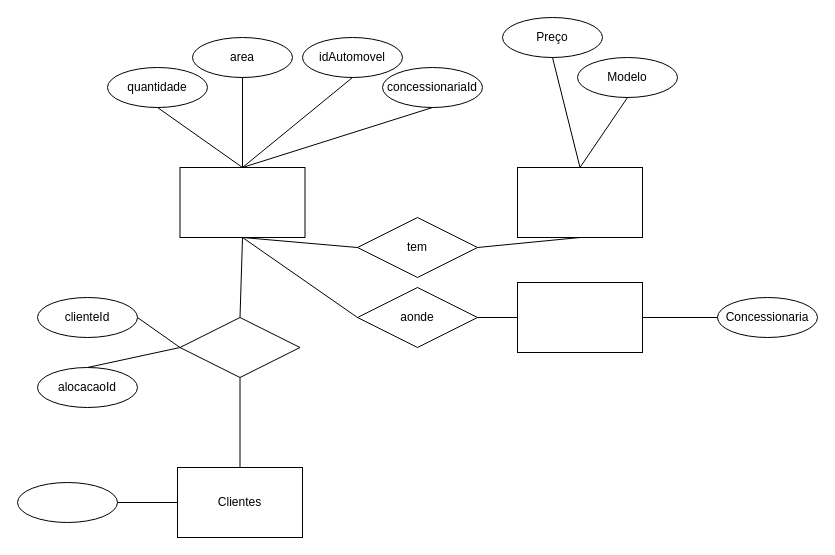
Image size: 835x555. Some labels were removed from this diagram. Each missing label, with the centre of its shape:
Alocação: (x=242, y=202)
Automóveis: (x=579, y=202)
Concessionarias: (x=579, y=317)
Nome: (x=67, y=502)
Vendas: (x=239, y=347)
